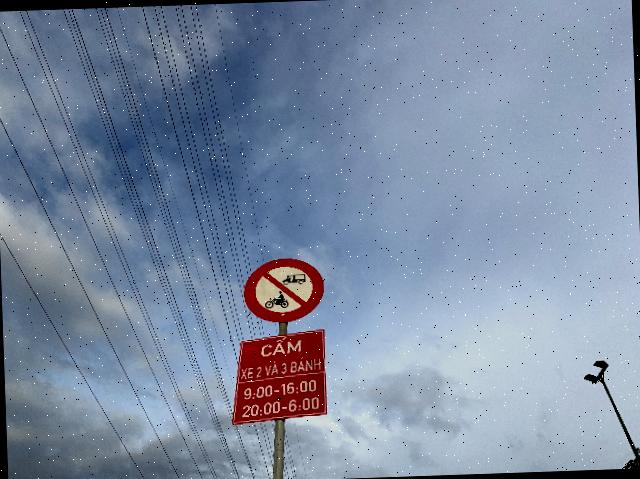cam-xe-2-banh-3-banh: (242, 257, 326, 324)
